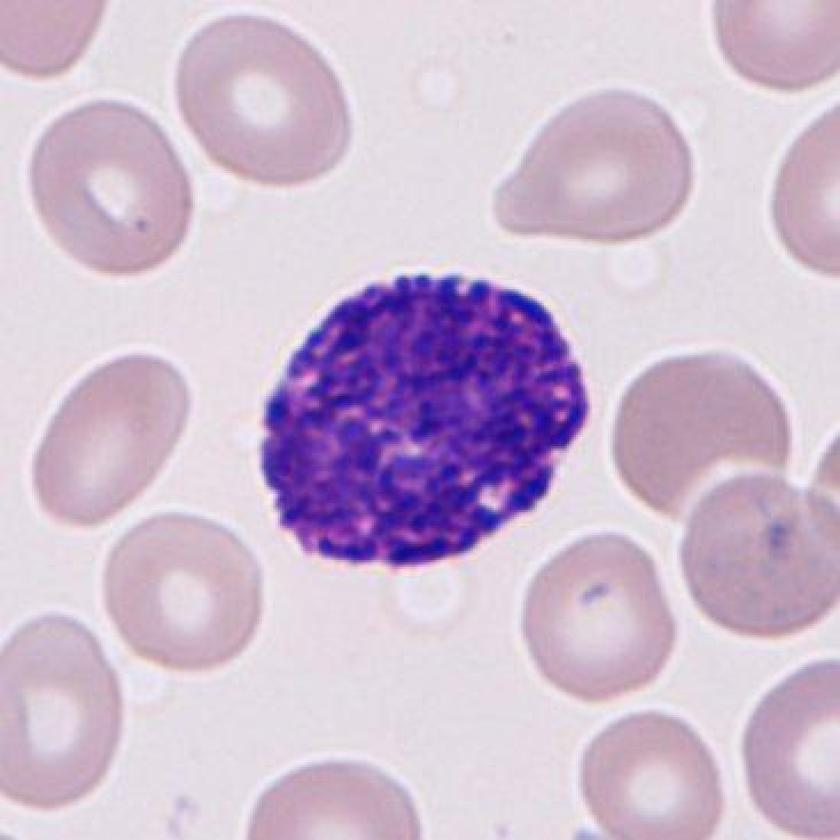basophil: (254, 263, 603, 575)
